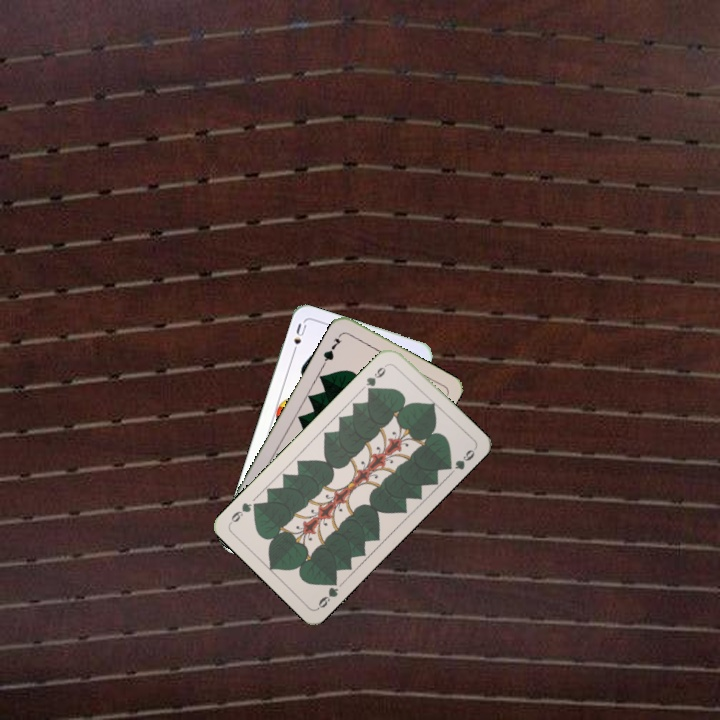G7: (319, 330, 345, 367)
G9: (362, 360, 392, 395), (314, 574, 341, 612)
SU: (288, 319, 309, 358)
